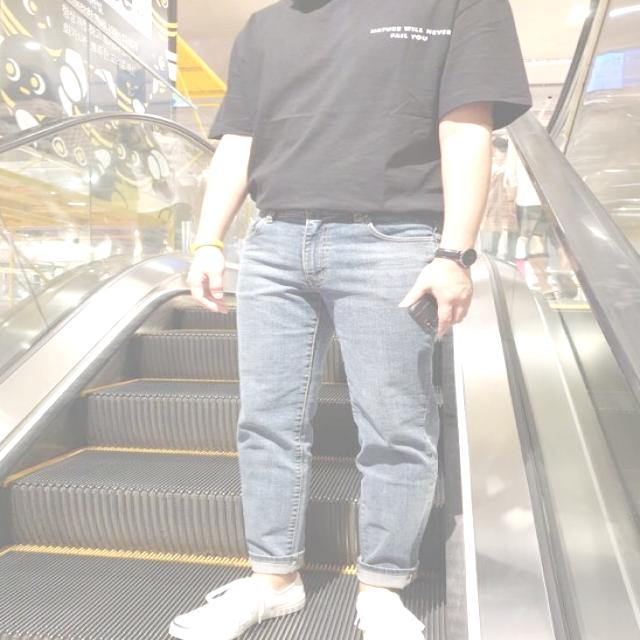denimpants: (236, 209, 448, 591)
shortsleeve: (212, 0, 530, 220)
